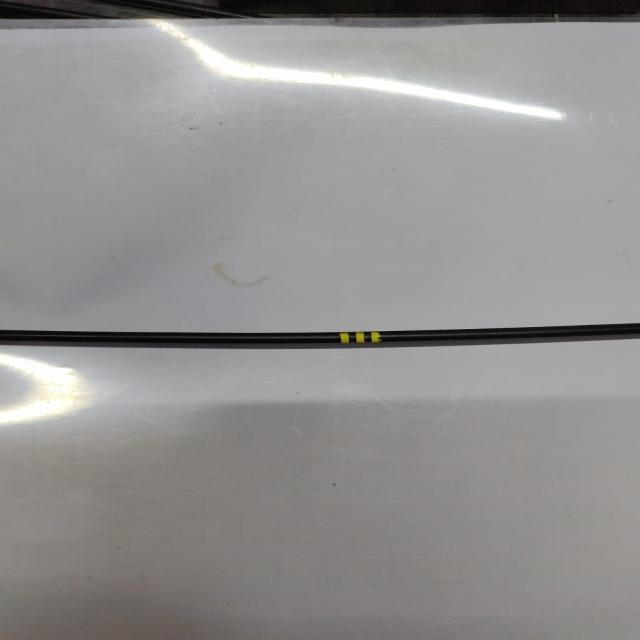yellow: (339, 332, 382, 343)
